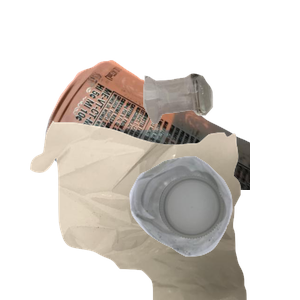glass: (141, 71, 300, 187)
metal: (43, 58, 283, 238)
plastic: (127, 154, 300, 300)
trash: (28, 120, 267, 300)
